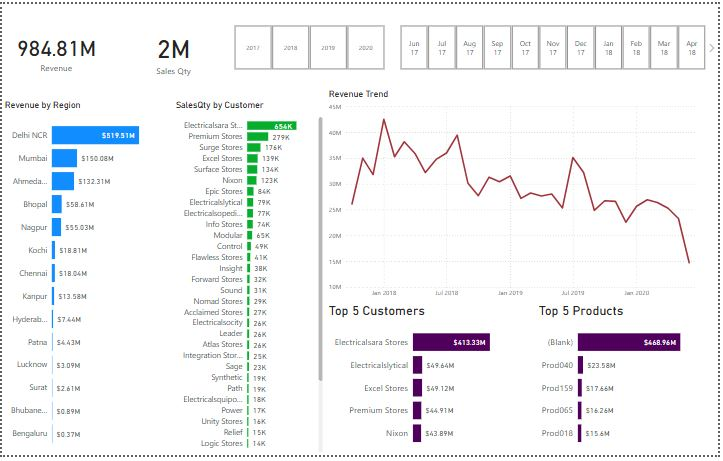

Layout of this report page (visuals, bound fields, positions):
{"tool":"powerbi","page":{"name":"Page 1","canvas":[1350,850],"ordinal":0},"visuals":[{"type":"card","fields":{"Values":["BaseMeasures.Revenue"]},"box":[0,0,205.4,180.4],"z":0},{"type":"card","fields":{"Values":["BaseMeasures.Sales Qty"]},"box":[208.9,0,228.6,180.4],"z":1000},{"type":"barChart","title":"Revenue by Region","fields":{"Y":["BaseMeasures.Revenue"],"Category":["sales markets.markets_name"]},"box":[0,180.4,323.2,669.6],"z":2000},{"type":"barChart","title":"SalesQty by Customer","fields":{"Y":["BaseMeasures.Sales Qty"],"Category":["sales customers.custmer_name"]},"box":[323.2,180.4,287.5,669.6],"z":3000},{"type":"slicer","fields":{"Values":["sales date.year"]},"box":[413,33.3,331.5,96.3],"z":4000},{"type":"slicer","fields":{"Values":["sales date.cy_date"]},"box":[725.9,33.3,624.1,96.3],"z":5000},{"type":"barChart","title":"Top 5 Customers","fields":{"Category":["sales customers.custmer_name"],"Y":["BaseMeasures.Revenue"]},"box":[610.7,564.3,382.1,285.7],"z":6000},{"type":"barChart","title":"Top 5 Products","fields":{"Category":["sales products.product_code"],"Y":["BaseMeasures.Revenue"]},"box":[1007.1,564.3,342.9,285.7],"z":7000},{"type":"lineChart","title":"Revenue Trend","fields":{"Y":["BaseMeasures.Revenue"],"Category":["sales date.cy_date.Variation.Date Hierarchy.Year","sales date.cy_date.Variation.Date Hierarchy.Quarter","sales date.cy_date.Variation.Date Hierarchy.Month","sales date.cy_date.Variation.Date Hierarchy.Day"]},"box":[610.7,160.7,714.3,403.6],"z":8000}]}

Visuals, with their boxes in screenshot pixels (x1, y1, x2, y2), scaled from the page's 1350x850 canvas onto the 723x461 screenshot:
card - BaseMeasures.Revenue: x1=0, y1=0, x2=110, y2=98
card - BaseMeasures.Sales Qty: x1=112, y1=0, x2=234, y2=98
"Revenue by Region" barChart: x1=0, y1=98, x2=173, y2=460
"SalesQty by Customer" barChart: x1=173, y1=98, x2=327, y2=460
slicer - sales date.year: x1=221, y1=18, x2=399, y2=70
slicer - sales date.cy_date: x1=389, y1=18, x2=722, y2=70
"Top 5 Customers" barChart: x1=327, y1=306, x2=532, y2=460
"Top 5 Products" barChart: x1=539, y1=306, x2=722, y2=460
"Revenue Trend" lineChart: x1=327, y1=87, x2=710, y2=306
